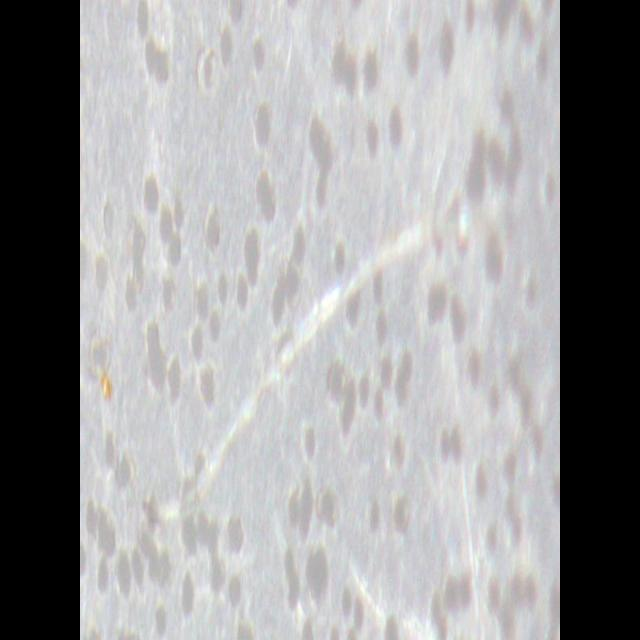Fibre: (138, 184, 476, 540)
